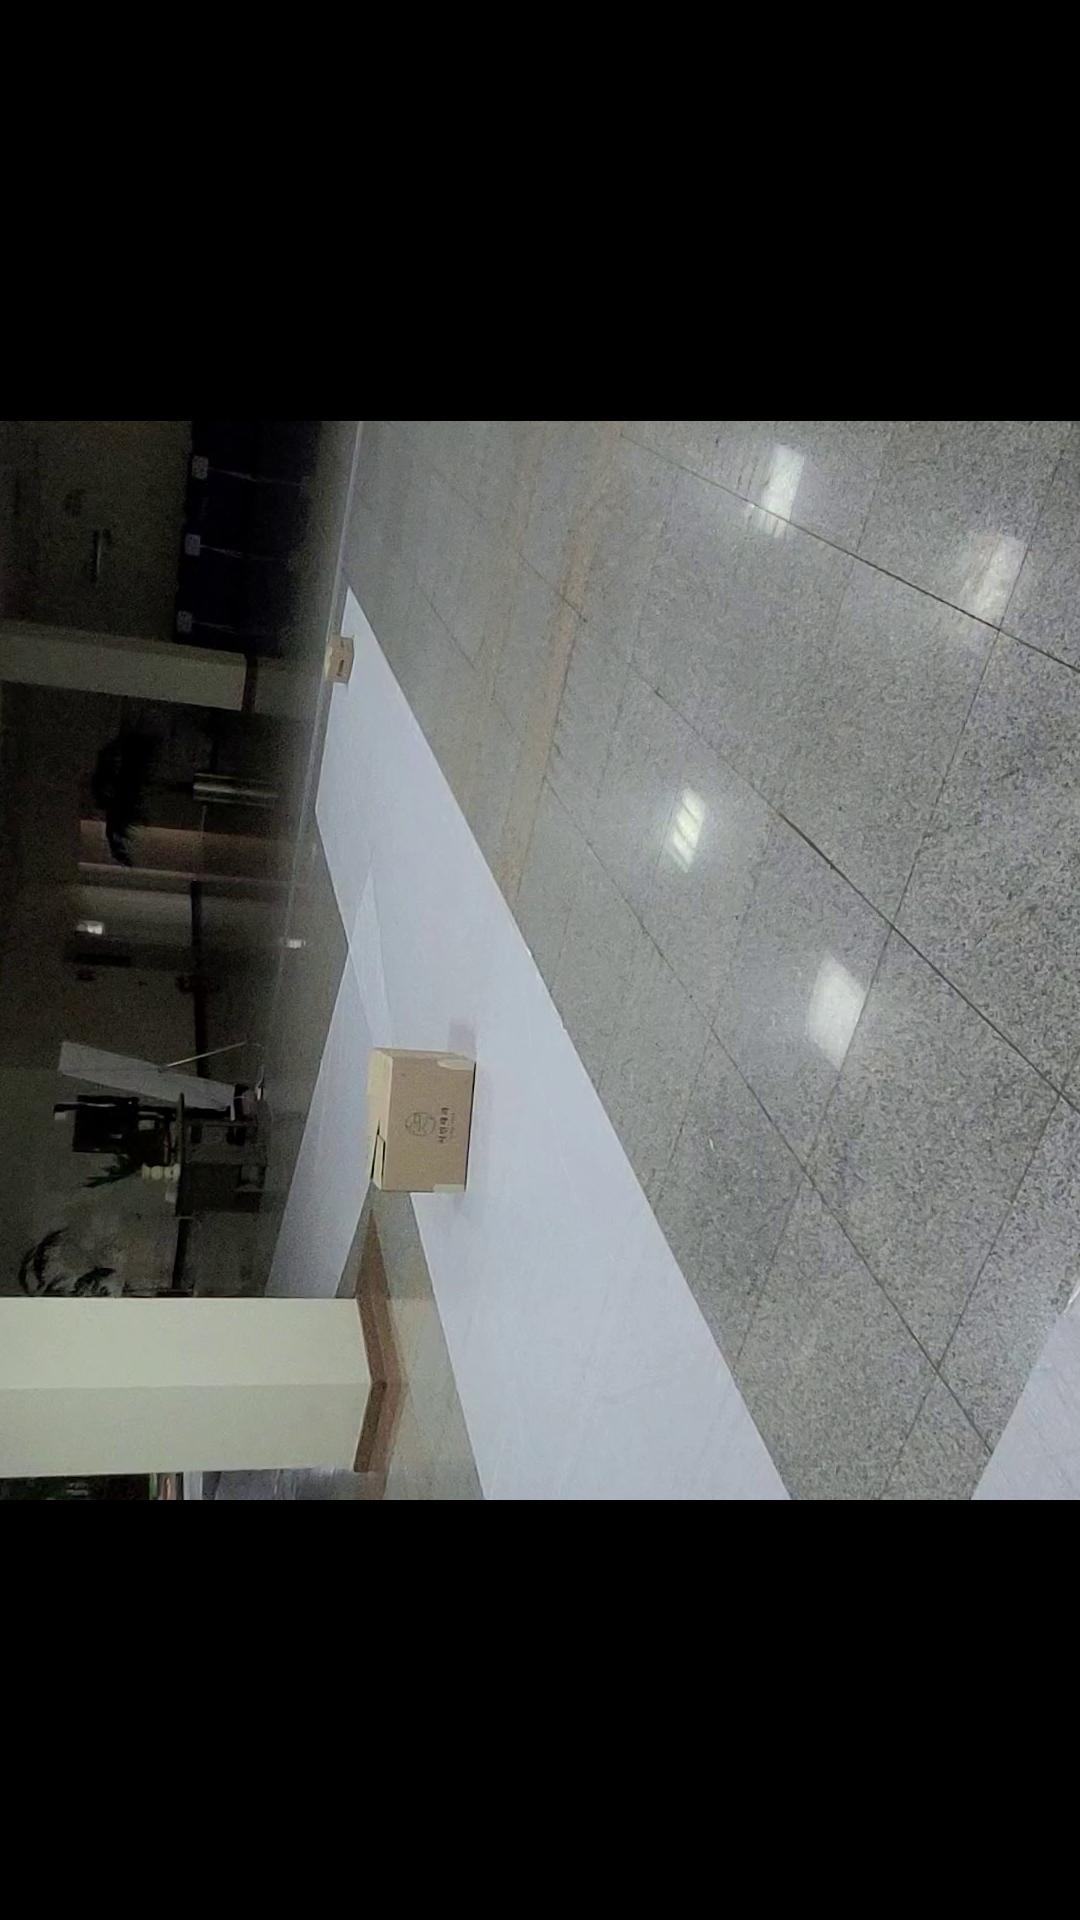Box: (348, 1033, 493, 1207), (309, 628, 363, 687)
